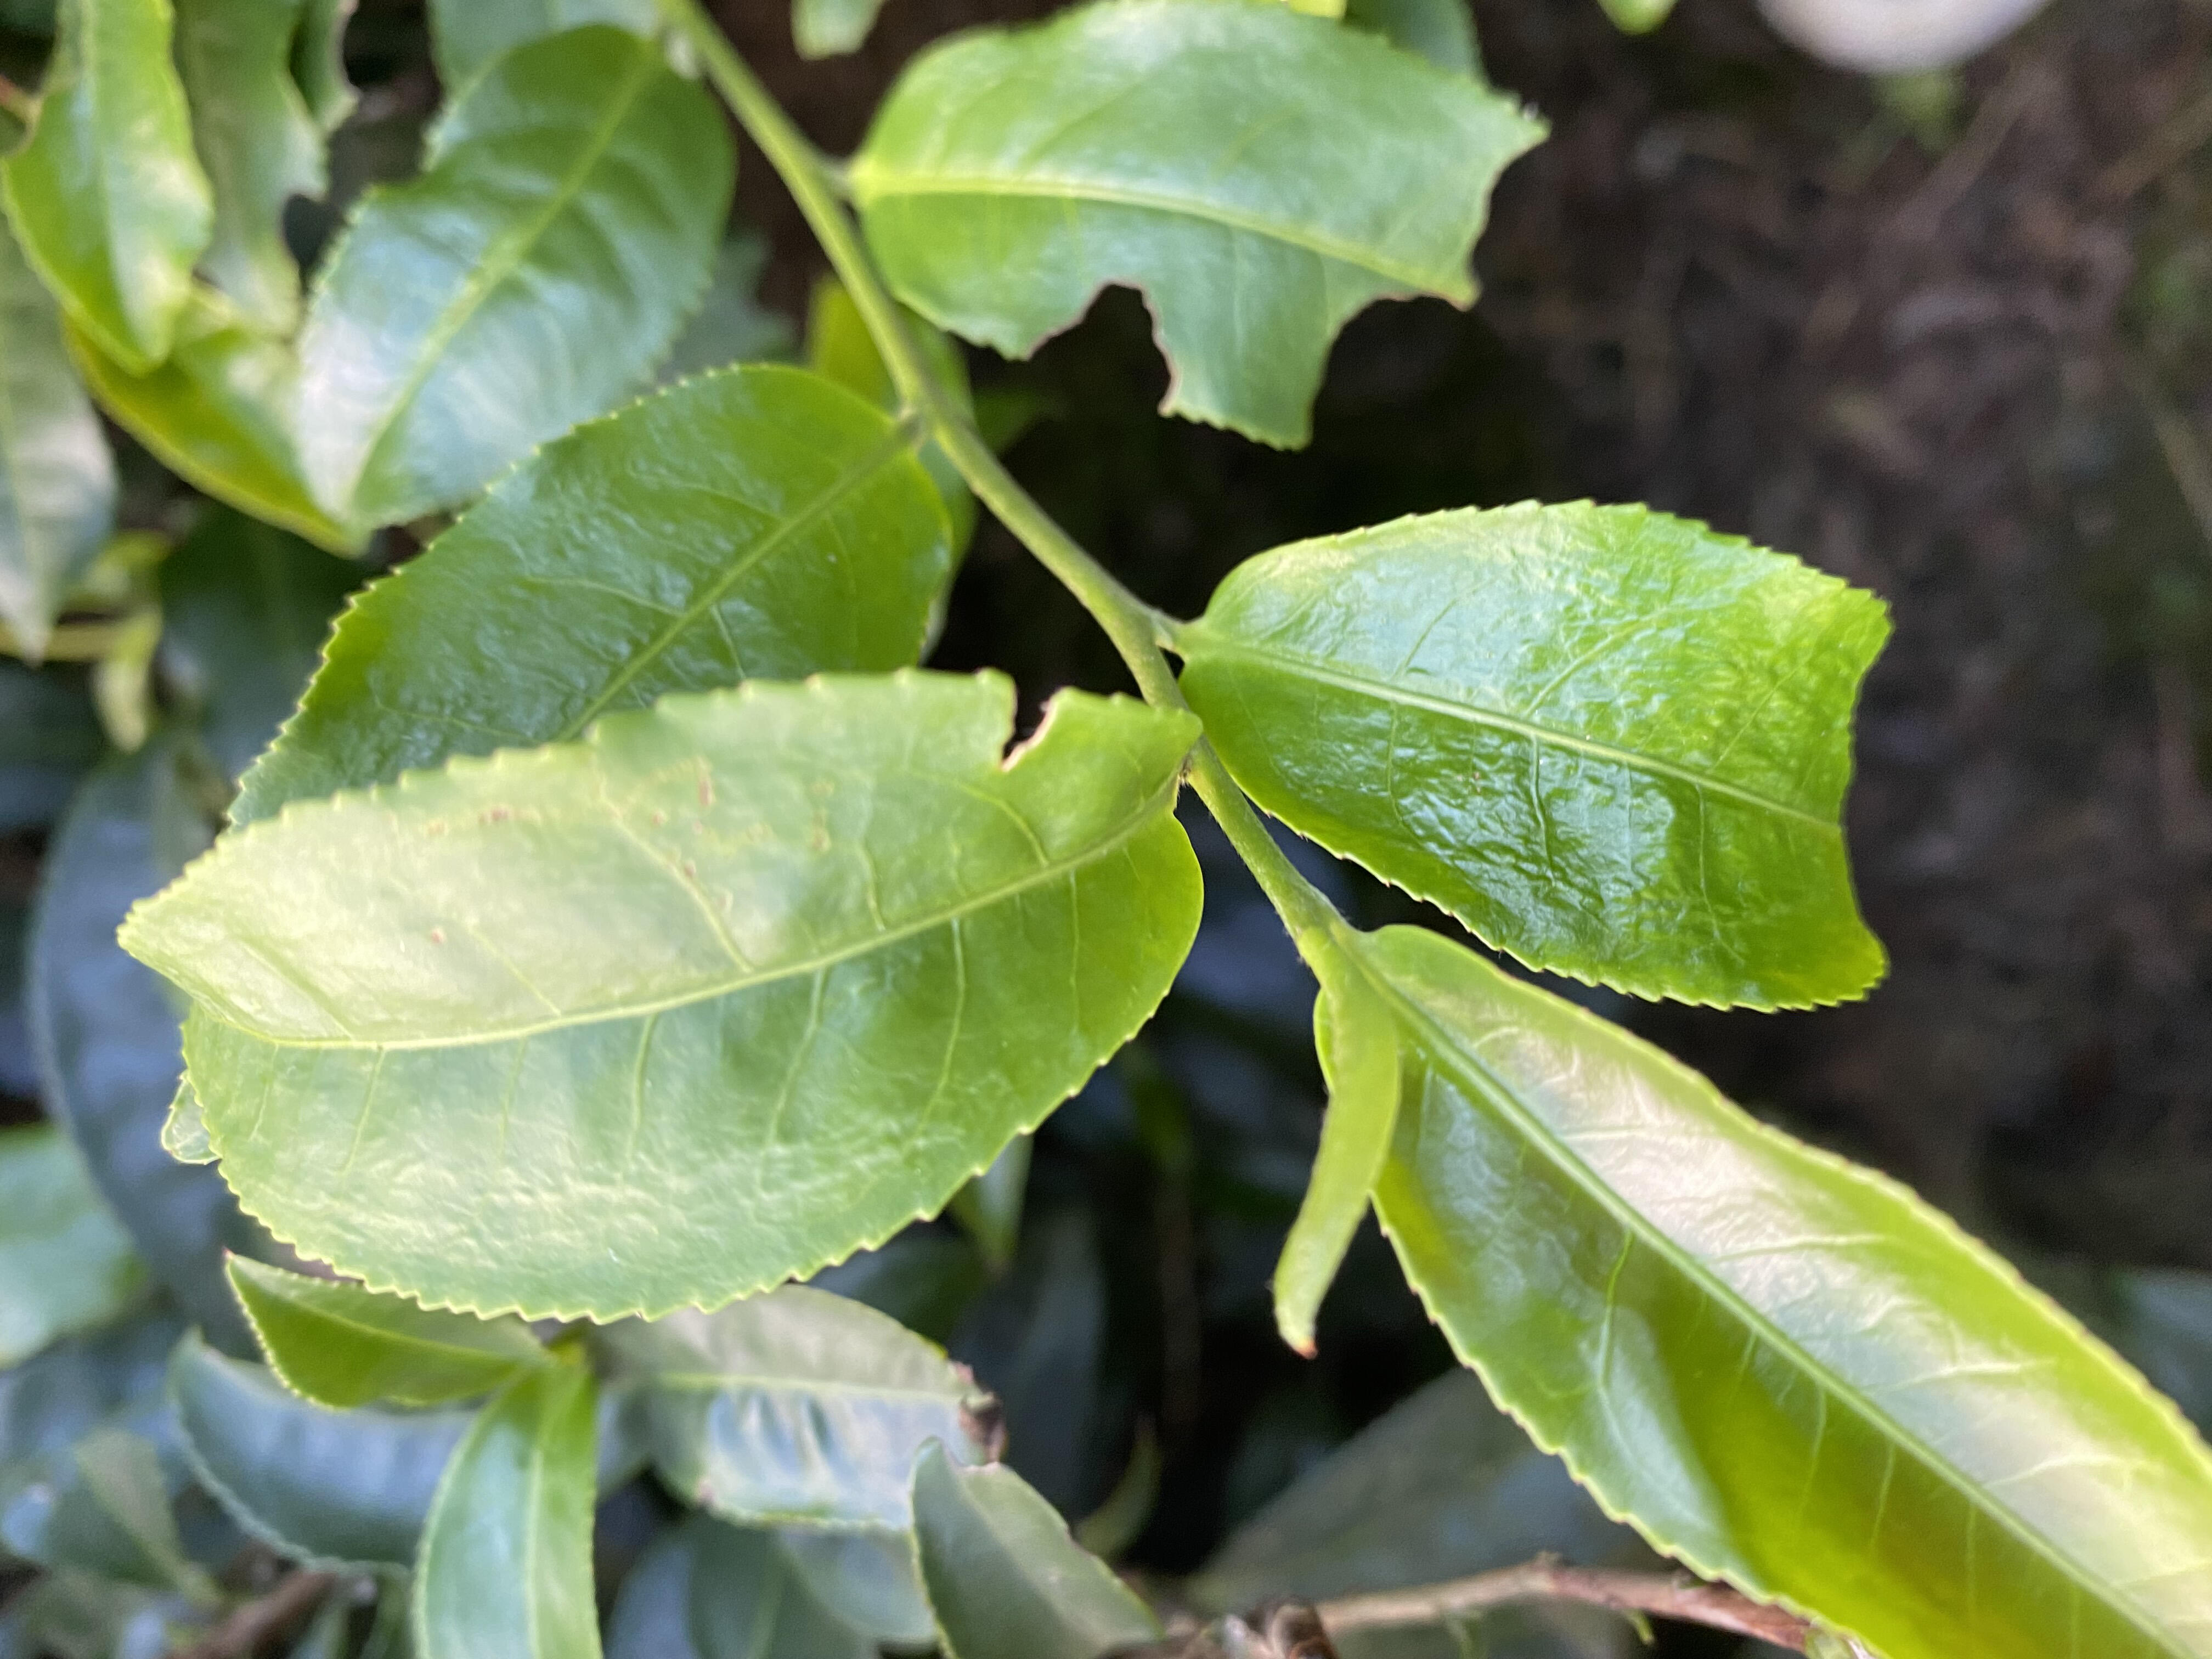chihuo_high: (850, 3, 1552, 453)
chihuo_low: (110, 666, 1211, 1328), (1179, 498, 1897, 1016)
